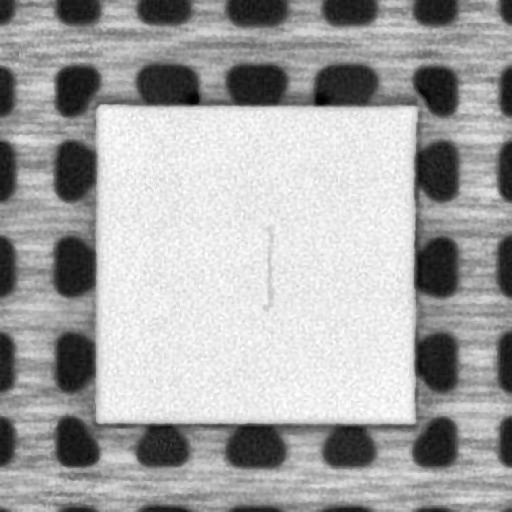DIE_CRACK: (257, 223, 275, 312)
